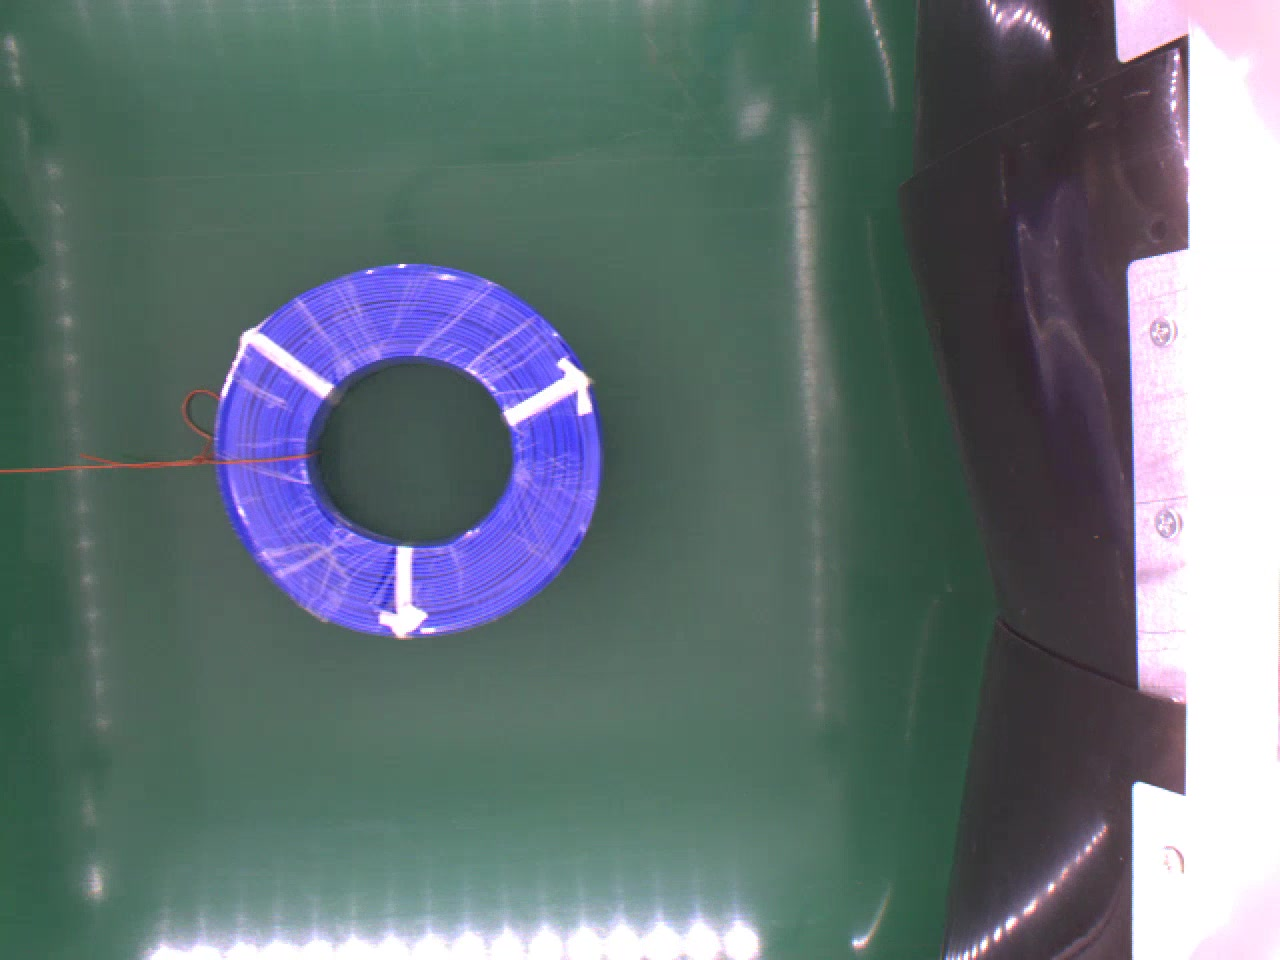blue: (218, 260, 599, 629)
